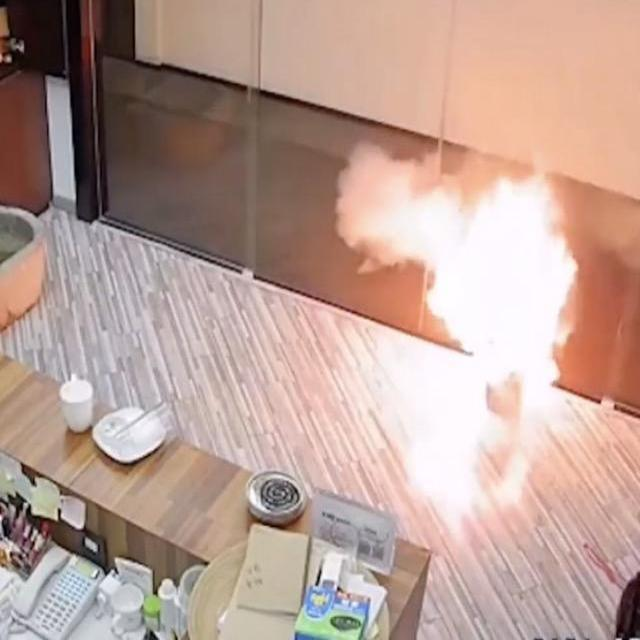smoke: (420, 172, 594, 450)
